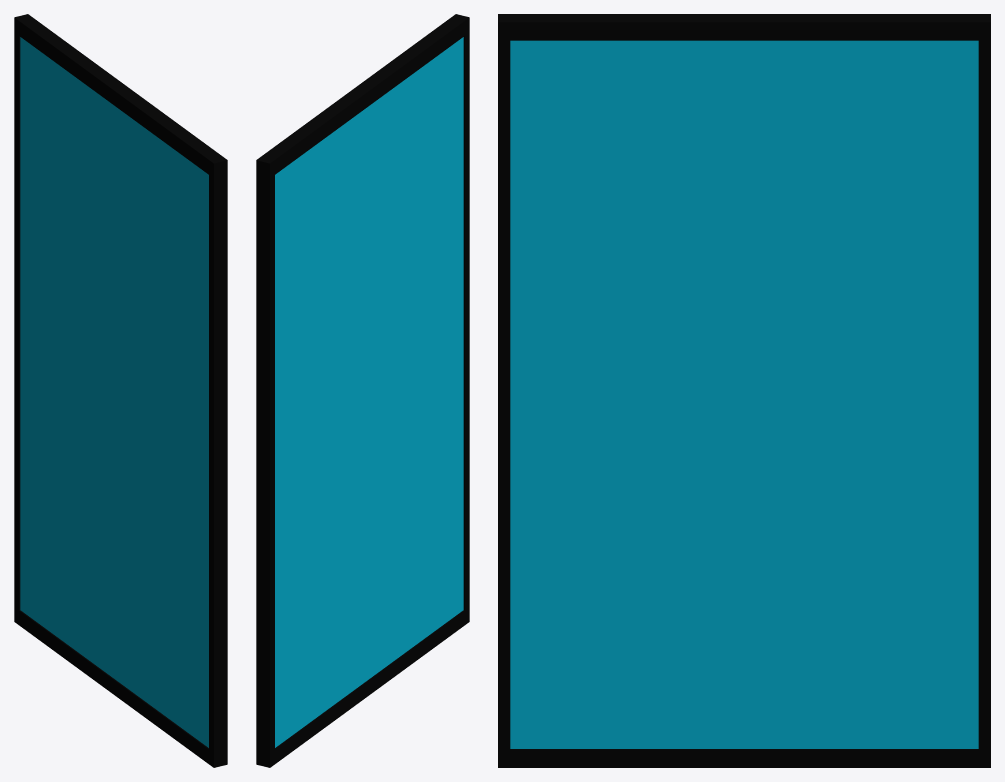
File: window.fbx
3 views of the same model, side by side, from view 1: azimuth 30°, elevation 25°; view 2: azimuth 150°, elevation 25°; view 3: azimuth 270°, elevation 25° (orthographic). The views are drawn at different scales.
Parts seen in each view (by area): view 1: Cube; view 2: Cube; view 3: Cube.
Part boxes in pixels (left/top/right/bottom): Cube: left=14, top=14, right=227, bottom=767; Cube: left=256, top=14, right=469, bottom=767; Cube: left=498, top=14, right=990, bottom=767.
Size of the model in its own units: 20.13 by 837 by 502.
